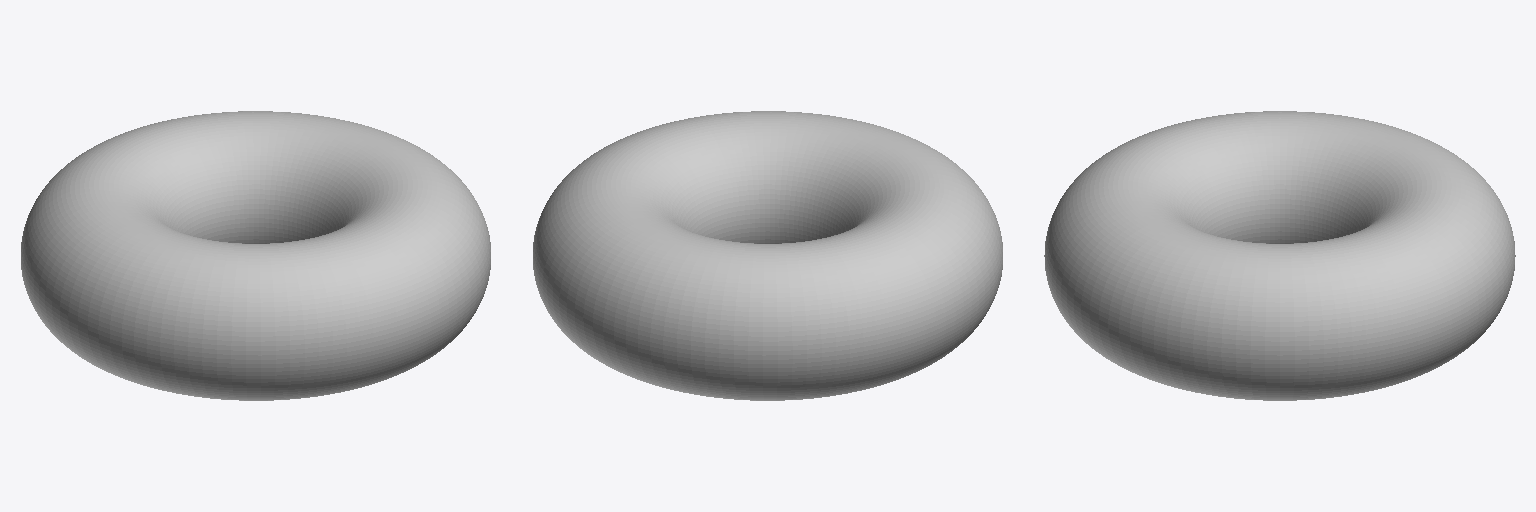
The model's file is donut_red_lambert_20000_tris_QUADS.obj.
3 views of the same model, side by side, from view 1: azimuth 30°, elevation 25°; view 2: azimuth 150°, elevation 25°; view 3: azimuth 270°, elevation 25° (orthographic).
Parts seen in each view (by area): view 1: pTorus1; view 2: pTorus1; view 3: pTorus1.
Part boxes in pixels (x1,y1,x2,y2): pTorus1: (21,111,490,400); pTorus1: (533,111,1002,400); pTorus1: (1044,111,1515,400).
Bounding box in the file's own units: 3 × 1 × 3.